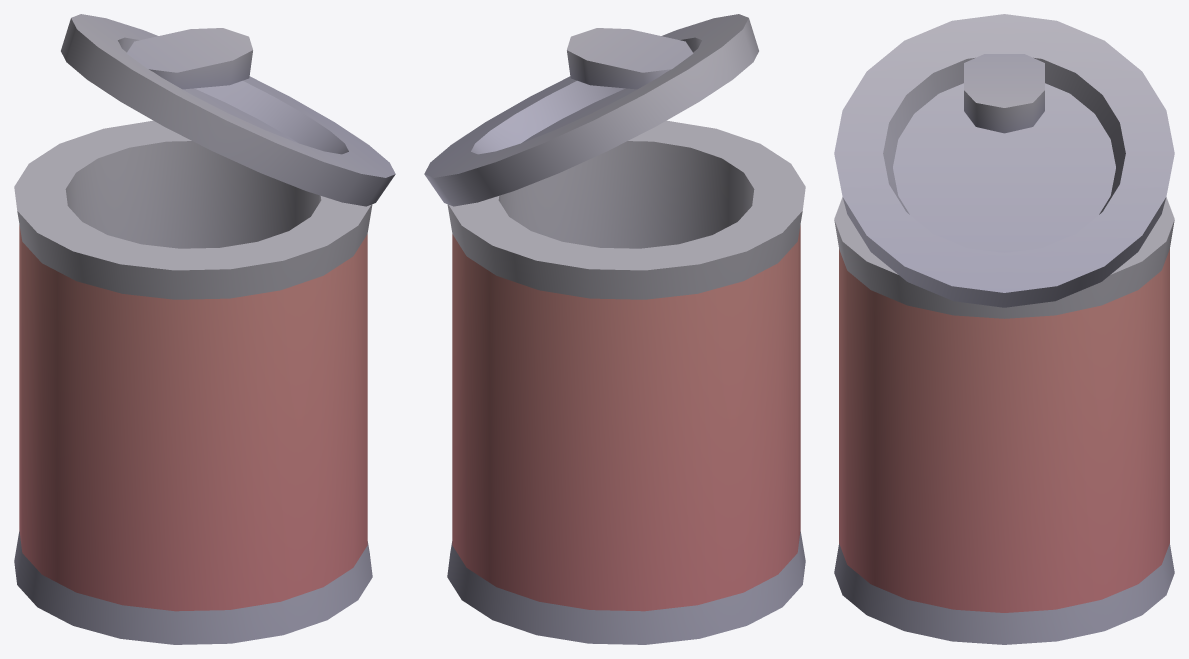
File: can-open.glb
The picture shows the model from 3 angles, left to right: view 1: azimuth 30°, elevation 25°; view 2: azimuth 150°, elevation 25°; view 3: azimuth 270°, elevation 25°; orthographic projection. The views are drawn at different scales.
Parts seen in each view (by area): view 1: can-open; view 2: can-open; view 3: can-open.
Part boxes in pixels (left/top/right/bottom): can-open: left=14, top=14, right=395, bottom=644; can-open: left=424, top=14, right=805, bottom=644; can-open: left=834, top=14, right=1174, bottom=644.
Bounding box in the file's own units: 0.118 × 0.1856 × 0.1112.
